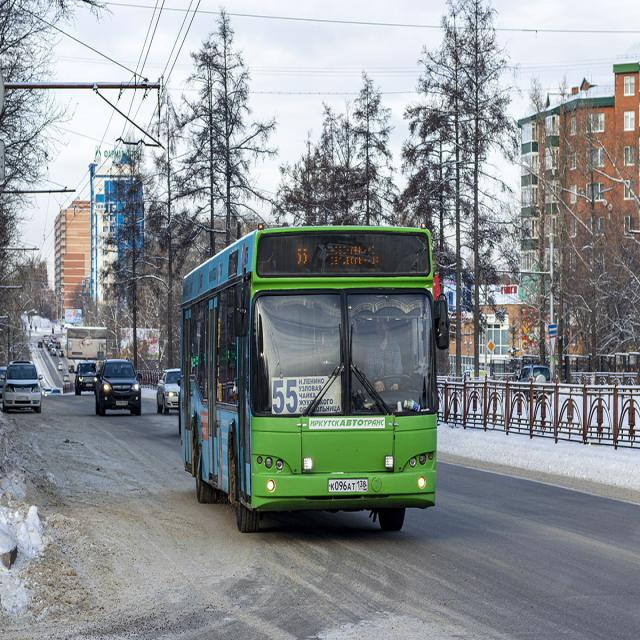number-of-bus: (273, 378, 300, 416)
